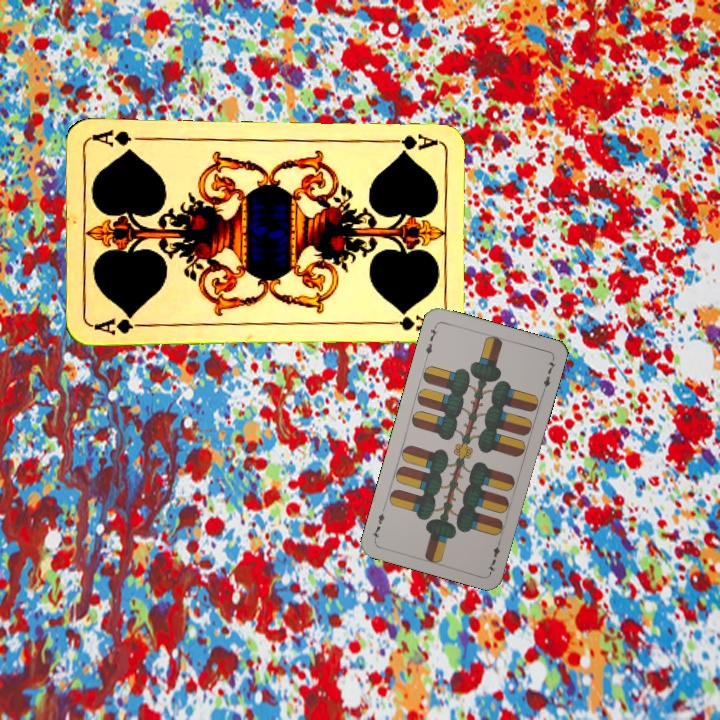E7: (421, 321, 440, 361), (484, 535, 503, 575)
GA: (90, 310, 149, 337), (381, 130, 440, 152)
